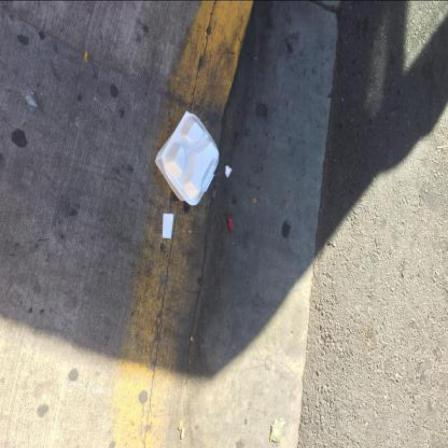Cigarette: (179, 420, 184, 432), (183, 427, 187, 439)
Plastic bag - wrapper: (19, 82, 38, 126), (228, 217, 236, 233)
Plastic container: (156, 112, 220, 206)
Unlabeled litter: (163, 214, 174, 240), (227, 166, 234, 178)
